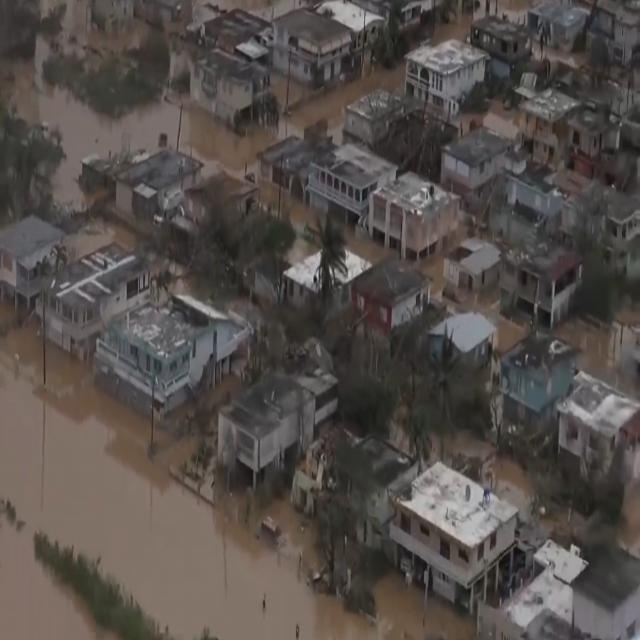flood: (0, 300, 475, 640), (13, 65, 407, 207), (0, 526, 108, 640), (559, 318, 640, 402), (252, 166, 319, 231), (461, 292, 525, 355), (70, 12, 146, 56), (490, 463, 539, 524), (66, 223, 135, 259), (346, 237, 402, 261), (624, 492, 640, 562)
house: (90, 286, 263, 444), (388, 453, 526, 625), (218, 366, 324, 494), (555, 359, 640, 505), (498, 334, 572, 452), (524, 82, 622, 166), (371, 169, 462, 259), (42, 265, 124, 359), (280, 11, 364, 94), (514, 244, 587, 334), (119, 143, 204, 219), (352, 262, 430, 344), (415, 38, 491, 122), (311, 148, 384, 234), (3, 219, 59, 321), (202, 42, 258, 126), (280, 240, 329, 319), (443, 241, 505, 303), (535, 0, 590, 57), (600, 192, 640, 241)
